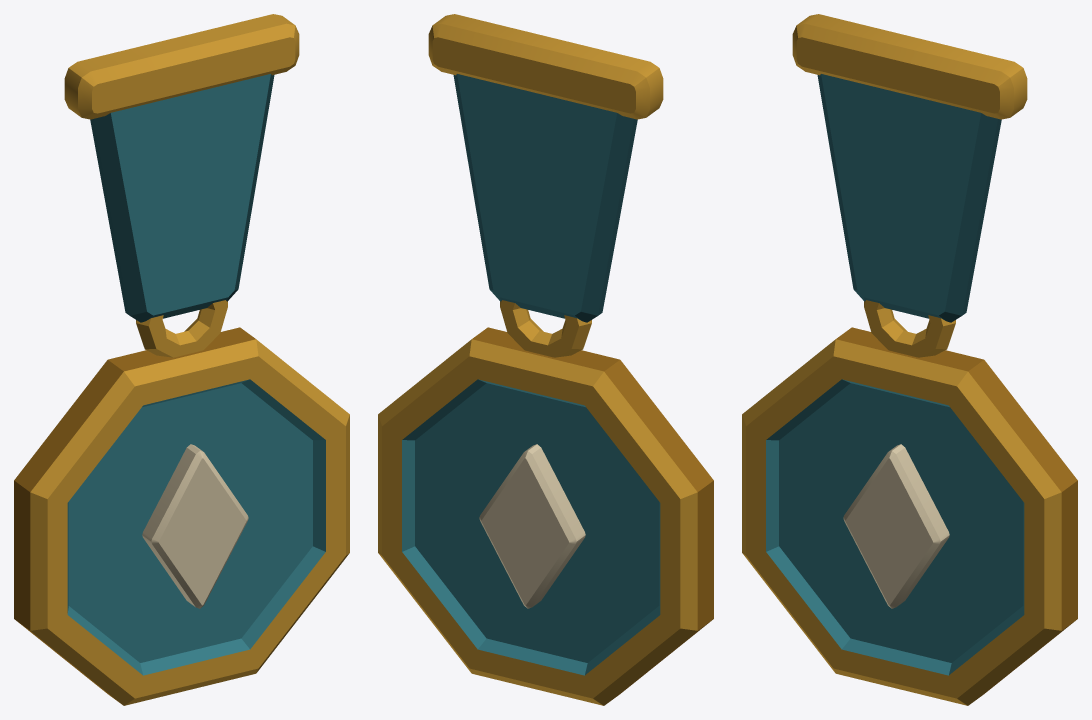
File: Medal_13.glb
3 renders of one model, left to right at view 1: azimuth 30°, elevation 25°; view 2: azimuth 150°, elevation 25°; view 3: azimuth 330°, elevation 25°, orthographic.
Visible parts, largest first — view 1: Medal_13; view 2: Medal_13; view 3: Medal_13.
Part boxes in pixels (box(x1,y1,x2,y2)): Medal_13: box(14, 14, 349, 705); Medal_13: box(378, 14, 713, 705); Medal_13: box(742, 14, 1077, 705).
Size of the model in its own units: 1.25 by 2.4 by 0.28.
